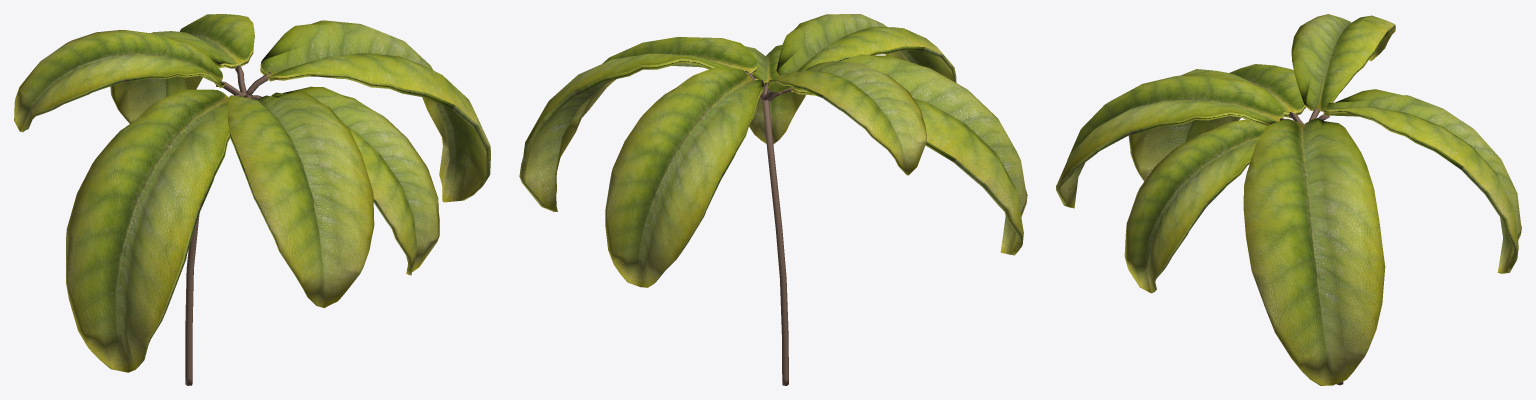
The model's file is Plant2.fbx.
The picture shows the model from 3 angles, left to right: view 1: azimuth 30°, elevation 25°; view 2: azimuth 150°, elevation 25°; view 3: azimuth 270°, elevation 25°; orthographic projection. The views are drawn at different scales.
Visible parts, largest first — view 1: Cylinder_007, Cylinder_005, Cylinder, Cylinder_004, Cylinder_002, Cylinder_003, Cylinder_006, Cylinder_001; view 2: Cylinder_003, Cylinder_007, Cylinder, Cylinder_004, Cylinder_005, Cylinder_002, Cylinder_006; view 3: Cylinder, Cylinder_002, Cylinder_005, Cylinder_003, Cylinder_004, Cylinder_007.
Part boxes in pixels (bbox=[...]): Cylinder_007: bbox=[66, 89, 229, 372]; Cylinder_005: bbox=[228, 91, 374, 308]; Cylinder: bbox=[260, 20, 490, 202]; Cylinder_004: bbox=[14, 30, 225, 132]; Cylinder_002: bbox=[271, 86, 439, 275]; Cylinder_003: bbox=[110, 14, 254, 123]; Cylinder_006: bbox=[185, 91, 246, 385]; Cylinder_001: bbox=[215, 65, 271, 99]; Cylinder_003: bbox=[605, 67, 764, 287]; Cylinder_007: bbox=[791, 54, 1027, 255]; Cylinder: bbox=[519, 37, 756, 211]; Cylinder_004: bbox=[768, 61, 926, 175]; Cylinder_005: bbox=[776, 14, 956, 82]; Cylinder_002: bbox=[745, 45, 805, 144]; Cylinder_006: bbox=[762, 93, 788, 385]; Cylinder: bbox=[1243, 118, 1385, 385]; Cylinder_002: bbox=[1124, 119, 1267, 293]; Cylinder_005: bbox=[1056, 75, 1283, 208]; Cylinder_003: bbox=[1323, 89, 1521, 273]; Cylinder_004: bbox=[1291, 14, 1395, 111]; Cylinder_007: bbox=[1128, 64, 1306, 181].
Bounding box in the file's own units: 10.71 × 7.93 × 10.16.
